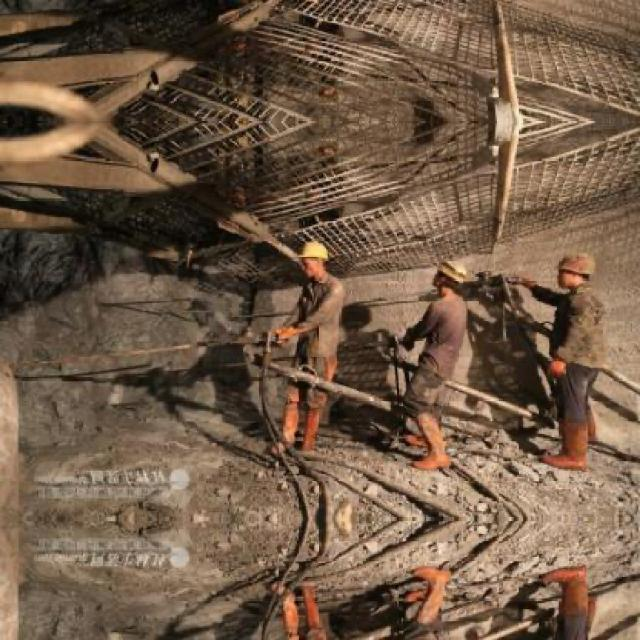con casco: (516, 234, 640, 316), (260, 226, 347, 301), (404, 249, 478, 315)
